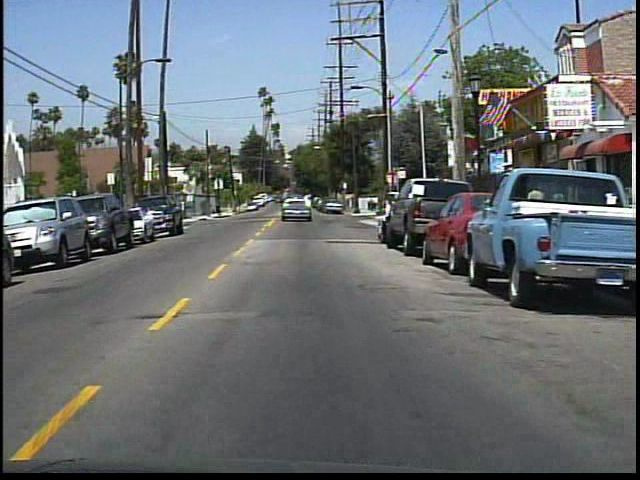person: (523, 178, 548, 236)
